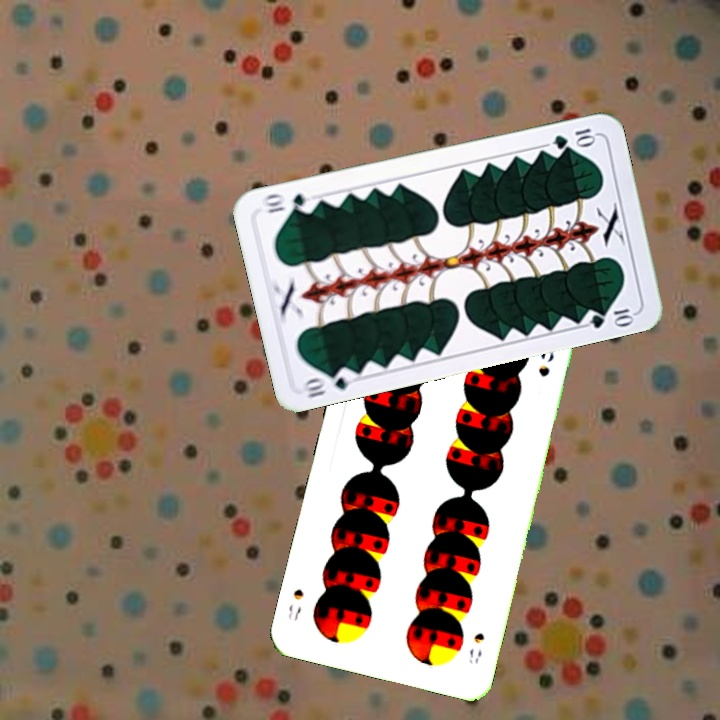G10: (298, 364, 356, 400), (549, 124, 598, 152)
S8: (464, 628, 487, 667)
